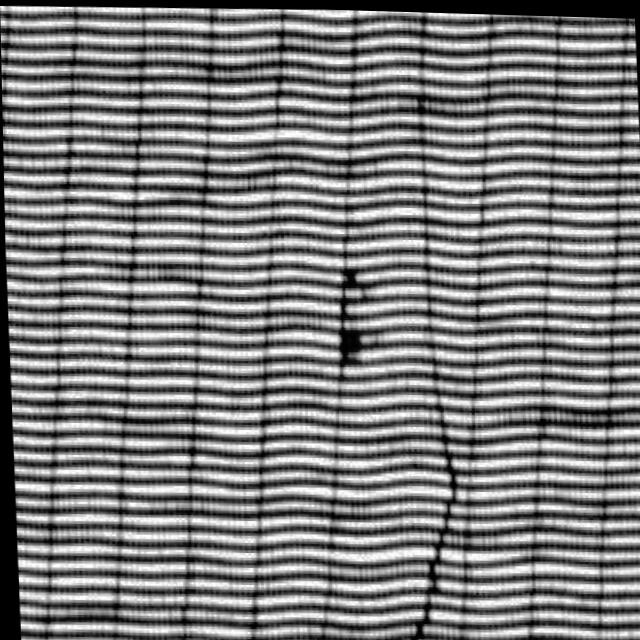Stitch: (347, 352, 511, 640)
